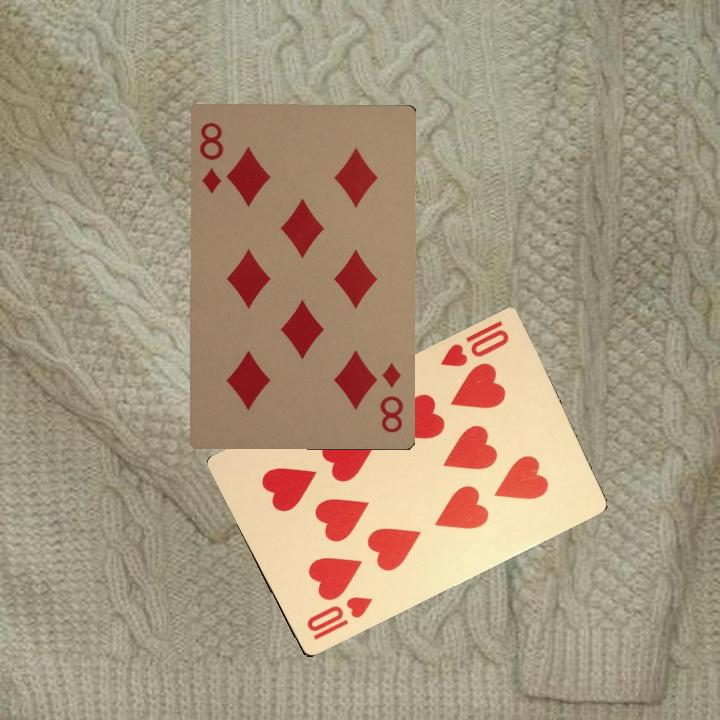10h: (437, 316, 512, 370), (302, 592, 375, 643)
8d: (195, 118, 226, 196), (376, 359, 406, 436)
